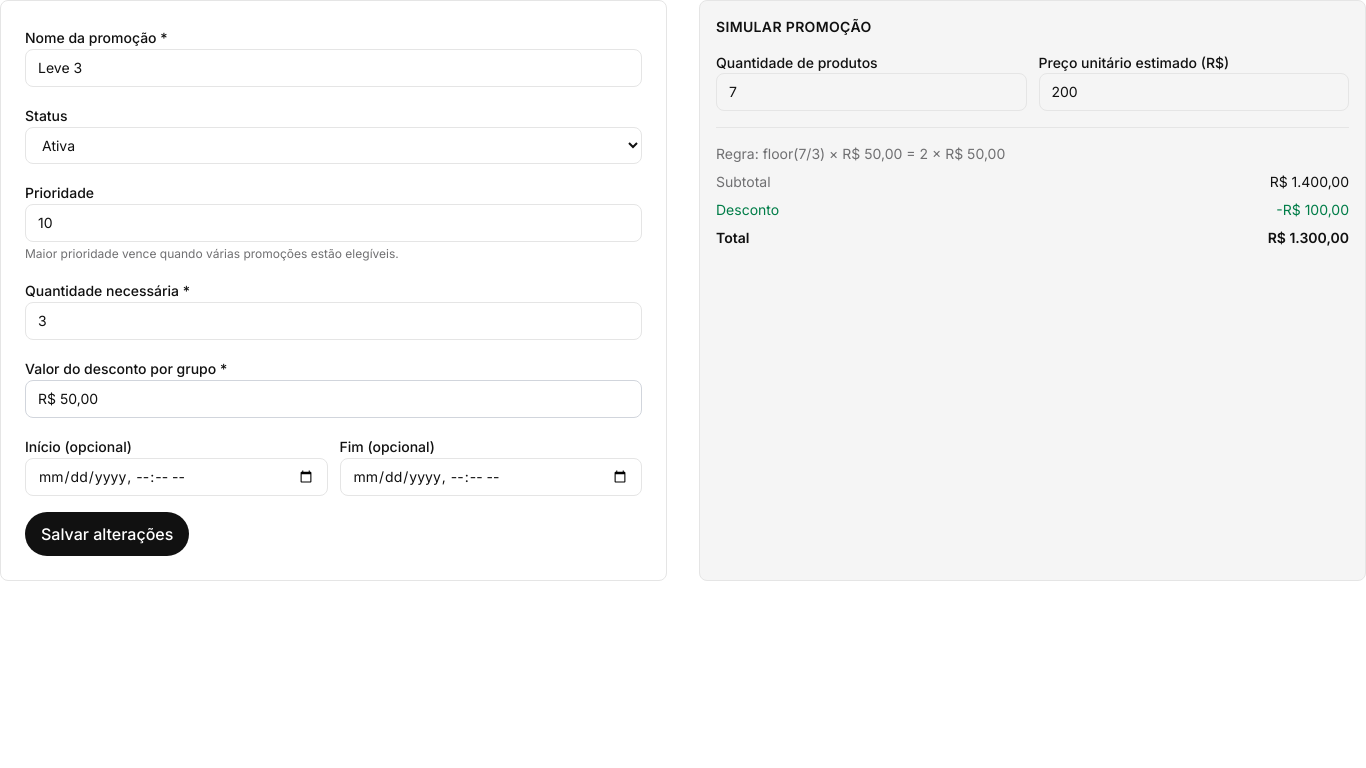
PromotionForm › mostra erro quando update falha
Click the button "Salvar alterações": (107, 534) [25,512,189,556]
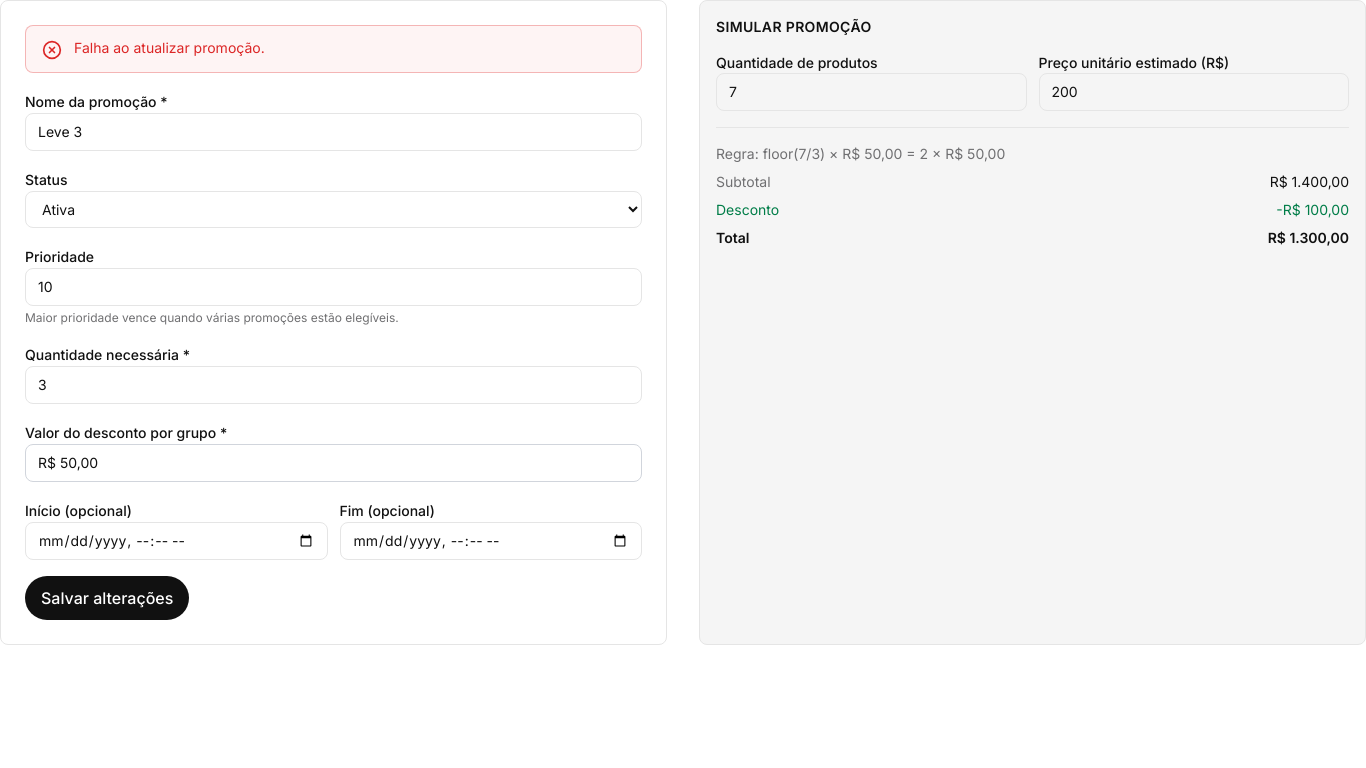
Expected: the text "Falha ao atualizar promoção." is shown, [74,39,265,56]
